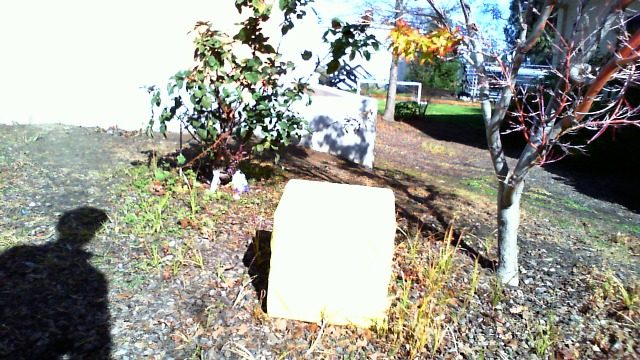cube: (263, 178, 397, 333)
